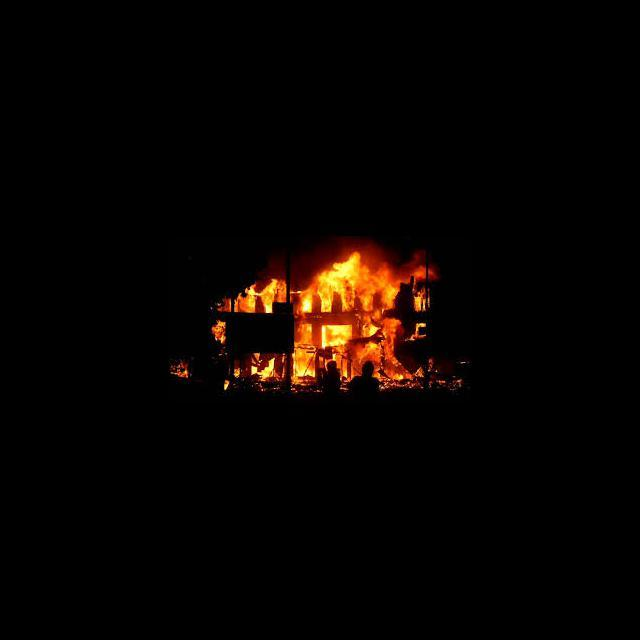Fire: (295, 315, 425, 383), (296, 254, 426, 312), (228, 352, 294, 391), (213, 280, 286, 314), (170, 354, 195, 381), (210, 316, 228, 344)
